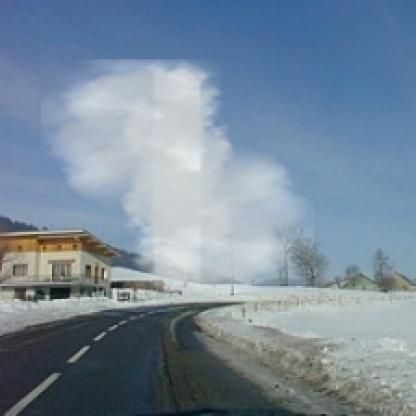smoke: (63, 54, 301, 282)
